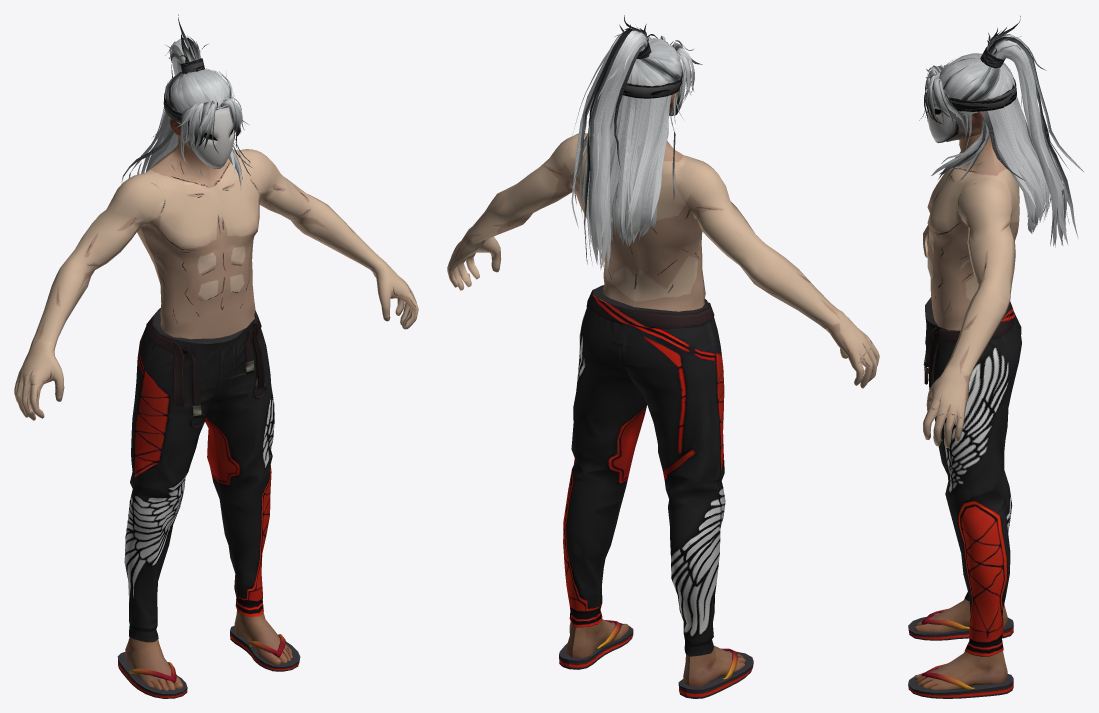
File: jokkie.glb
3 renders of one model, left to right at view 1: azimuth 30°, elevation 25°; view 2: azimuth 150°, elevation 25°; view 3: azimuth 270°, elevation 25°, orthographic. The views are drawn at different scales.
Parts seen in each view (by area): view 1: jokkie 1, jokkie 6, jokkie 2, jokkie 5, jokkie 4, jokkie 3; view 2: jokkie 6, jokkie 1, jokkie 2, jokkie 5, jokkie 4, jokkie 3; view 3: jokkie 1, jokkie 6, jokkie 2, jokkie 5, jokkie 4, jokkie 3, jokkie 7.
Boxes of the visible parts, x1,y1,x2,y2 form: jokkie 1: (14, 135, 418, 420); jokkie 6: (124, 308, 274, 642); jokkie 2: (121, 14, 252, 189); jokkie 5: (125, 610, 292, 690); jokkie 4: (117, 625, 300, 698); jokkie 3: (163, 58, 235, 168); jokkie 6: (563, 285, 725, 656); jokkie 1: (447, 133, 879, 388); jokkie 2: (563, 15, 702, 270); jokkie 5: (566, 619, 745, 686); jokkie 4: (559, 620, 753, 698); jokkie 3: (623, 40, 684, 115); jokkie 1: (923, 134, 1019, 447); jokkie 6: (923, 297, 1021, 656); jokkie 2: (919, 16, 1083, 247); jokkie 5: (915, 599, 1007, 689); jokkie 4: (908, 608, 1013, 698); jokkie 3: (927, 47, 1016, 143); jokkie 7: (944, 89, 983, 141).
Bounding box in the file's own units: 0.6312 × 0.964 × 0.2391.
Materials: 7 (7 with a texture image).
